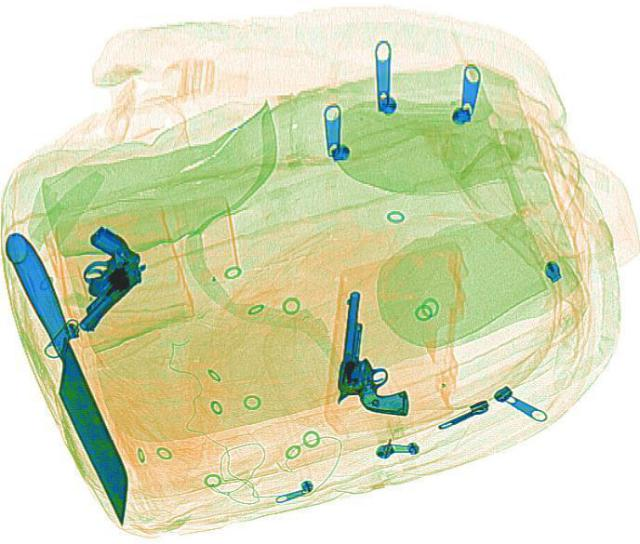Gun: (31, 223, 161, 331), (328, 288, 419, 413)
Knife: (0, 227, 148, 527)
